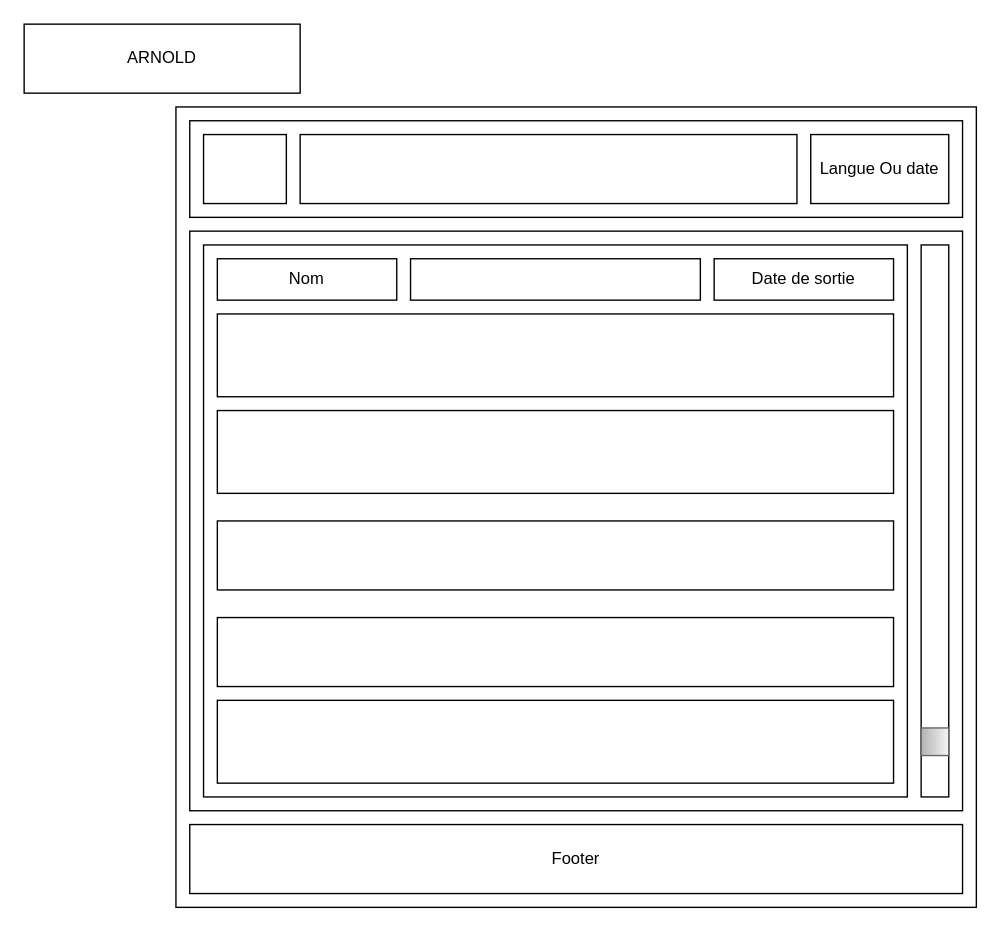
The diagram is 1001 pixels wide and 932 high, and some of its shapes have lost their labels. The shapes that lost their labels are listed below. From the top down, each one's centre as x and y in pixels, then its label:
[244,168]: Nav /DropDown
[548,168]: Titre /// Et lien de retour vers acceuil
[554,278]: Caracteristic
